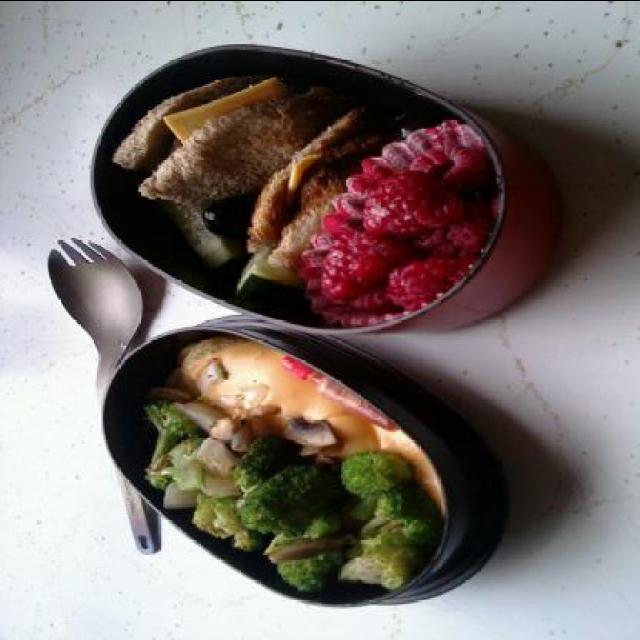Broccoli: (148, 400, 440, 591)
